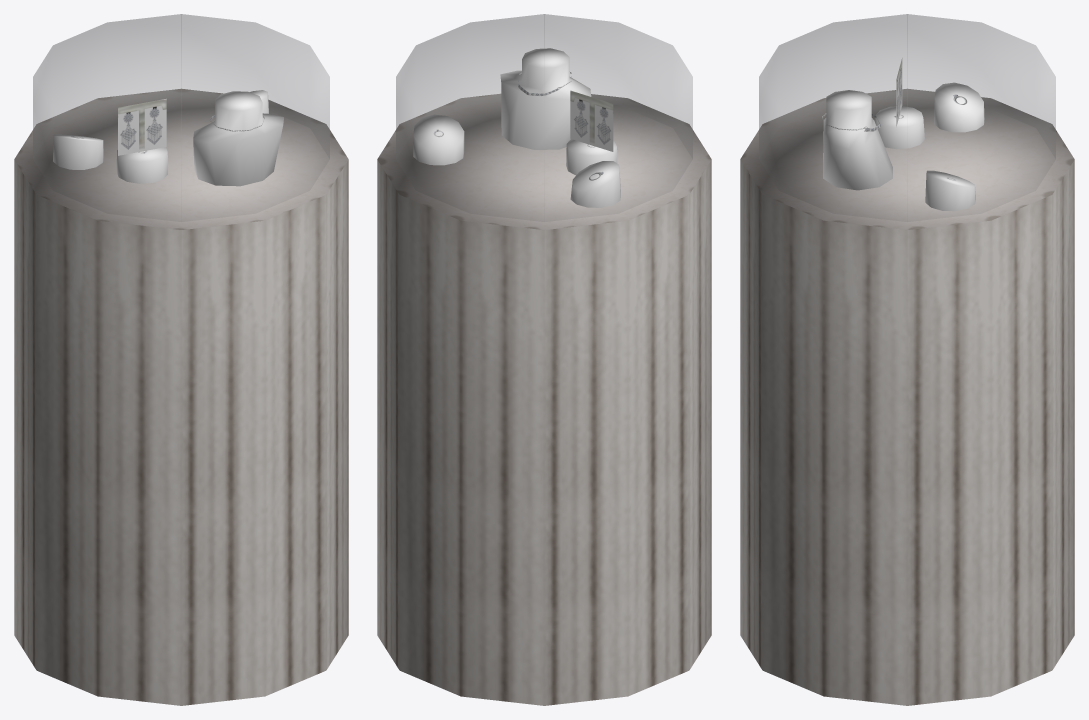
The model's file is 01_AccSilver.fbx.
3 views of the same model, side by side, from view 1: azimuth 30°, elevation 25°; view 2: azimuth 150°, elevation 25°; view 3: azimuth 270°, elevation 25° (orthographic).
Parts seen in each view (by area): view 1: AccSilver; view 2: AccSilver; view 3: AccSilver.
Part boxes in pixels (left/top/right/bottom): AccSilver: left=14, top=14, right=348, bottom=705; AccSilver: left=377, top=14, right=711, bottom=705; AccSilver: left=740, top=14, right=1074, bottom=705.
Size of the model in its own units: 4.85 by 8.94 by 4.85.
Materials: 2 (1 with a texture image).
